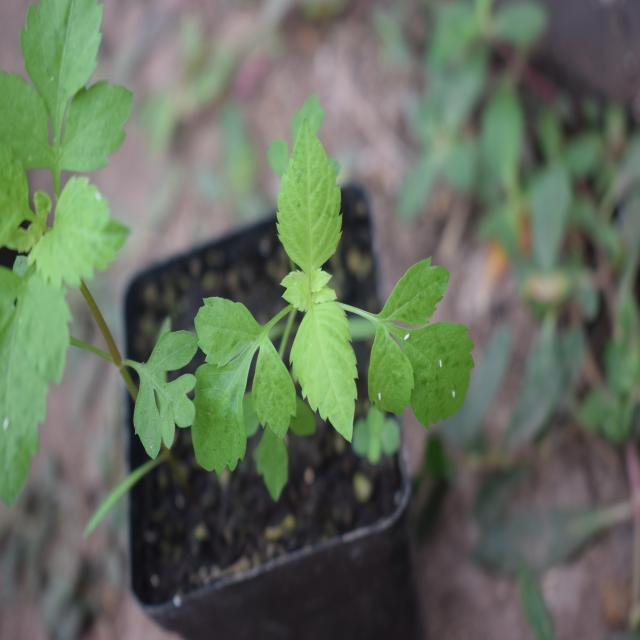Bidens pilosa: (161, 130, 472, 468), (0, 3, 151, 478)
